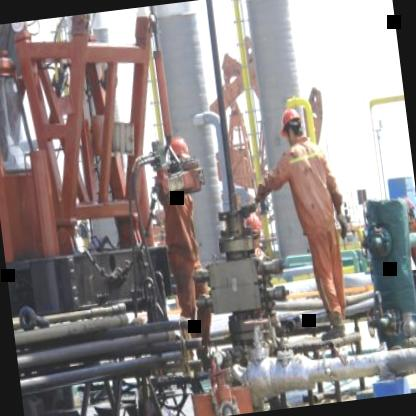helmet: (165, 132, 194, 182), (280, 98, 309, 146)
